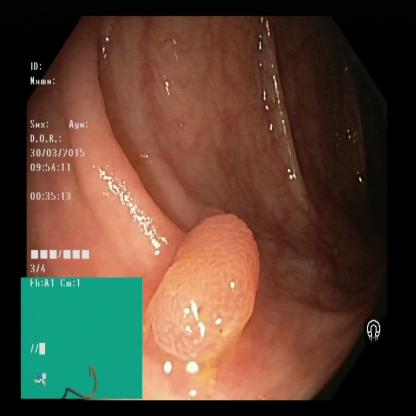Labels: (27, 53, 101, 278), (22, 278, 144, 398), (356, 310, 388, 349)
Polyps: (145, 210, 267, 344)
